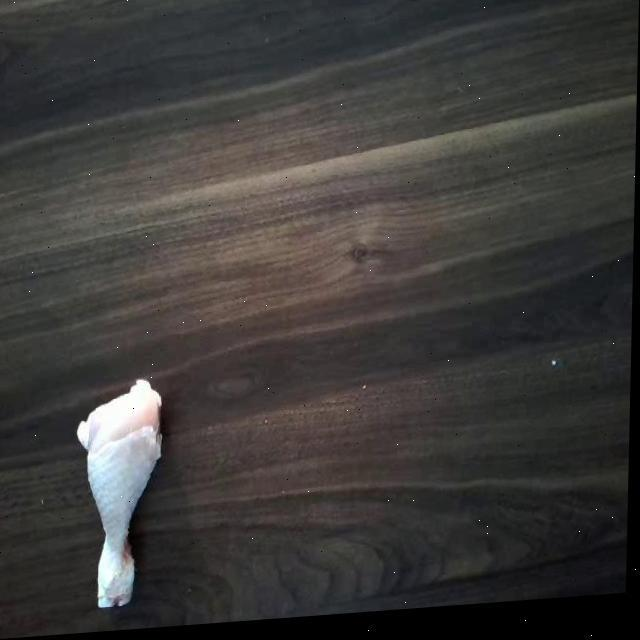leg: (78, 383, 168, 621)
